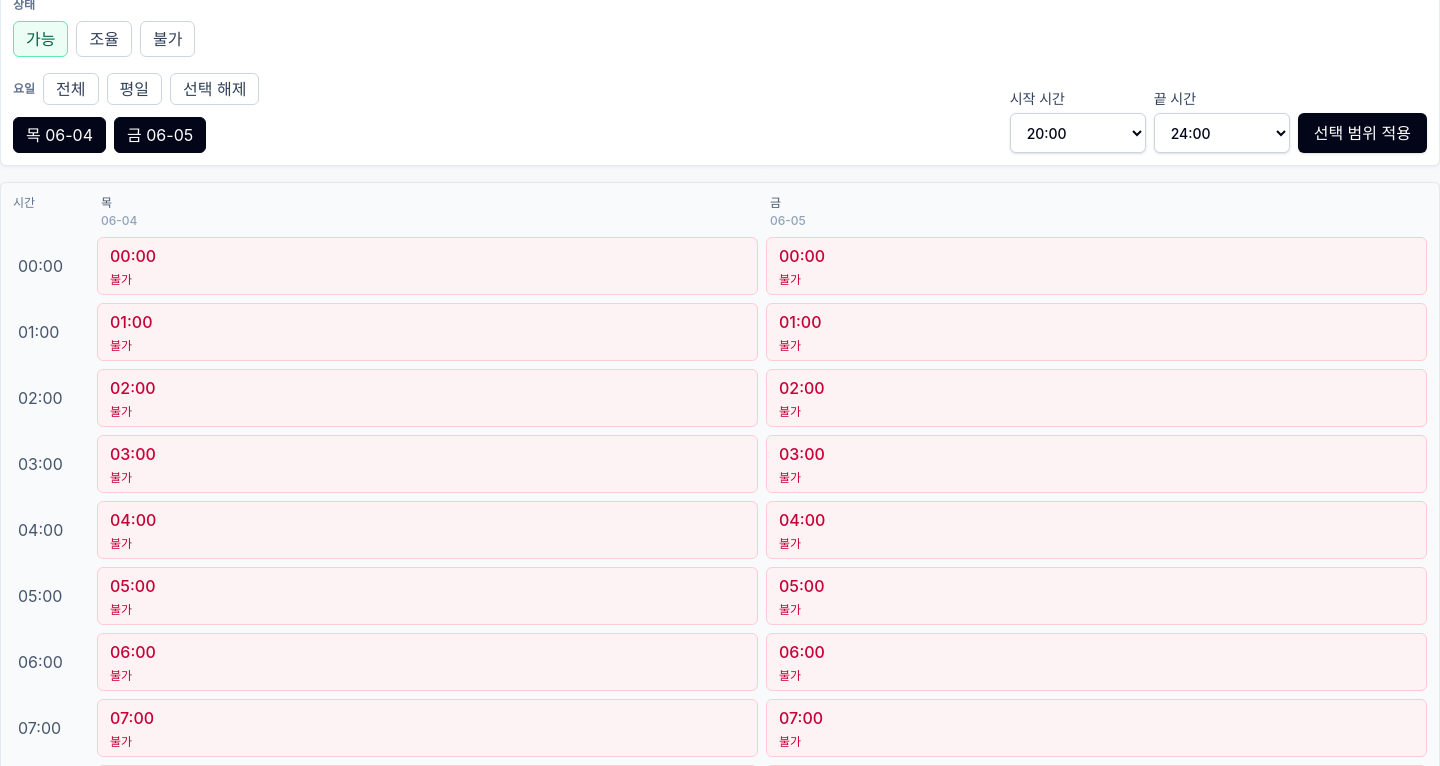
Test: AvailabilityGrid › applies a chosen time range only to selected days
Click the button "조율": (104, 39) 76,21 -> 132,57
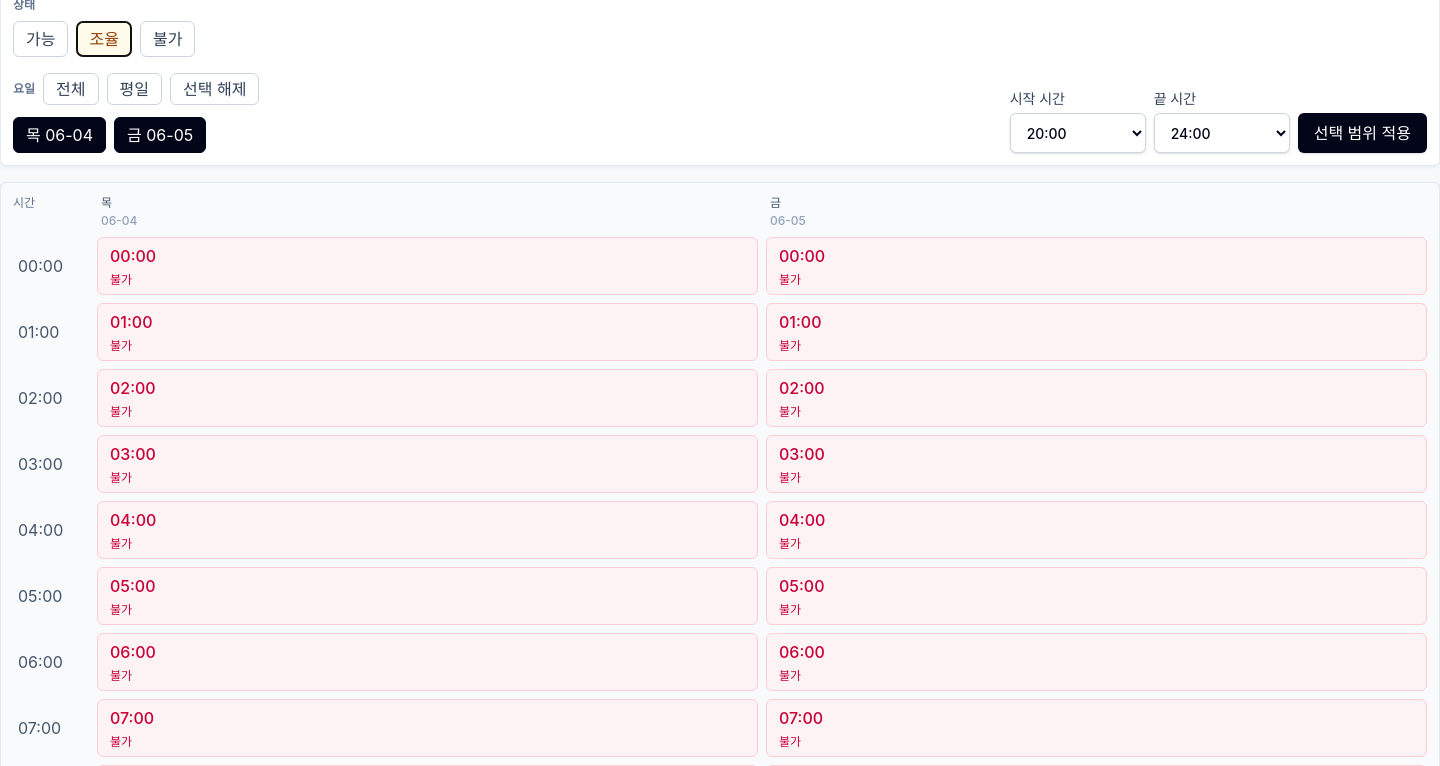
Select "20:00" in the dropdown labelled "시작 시간": (1078, 133) 1010,113 -> 1146,153
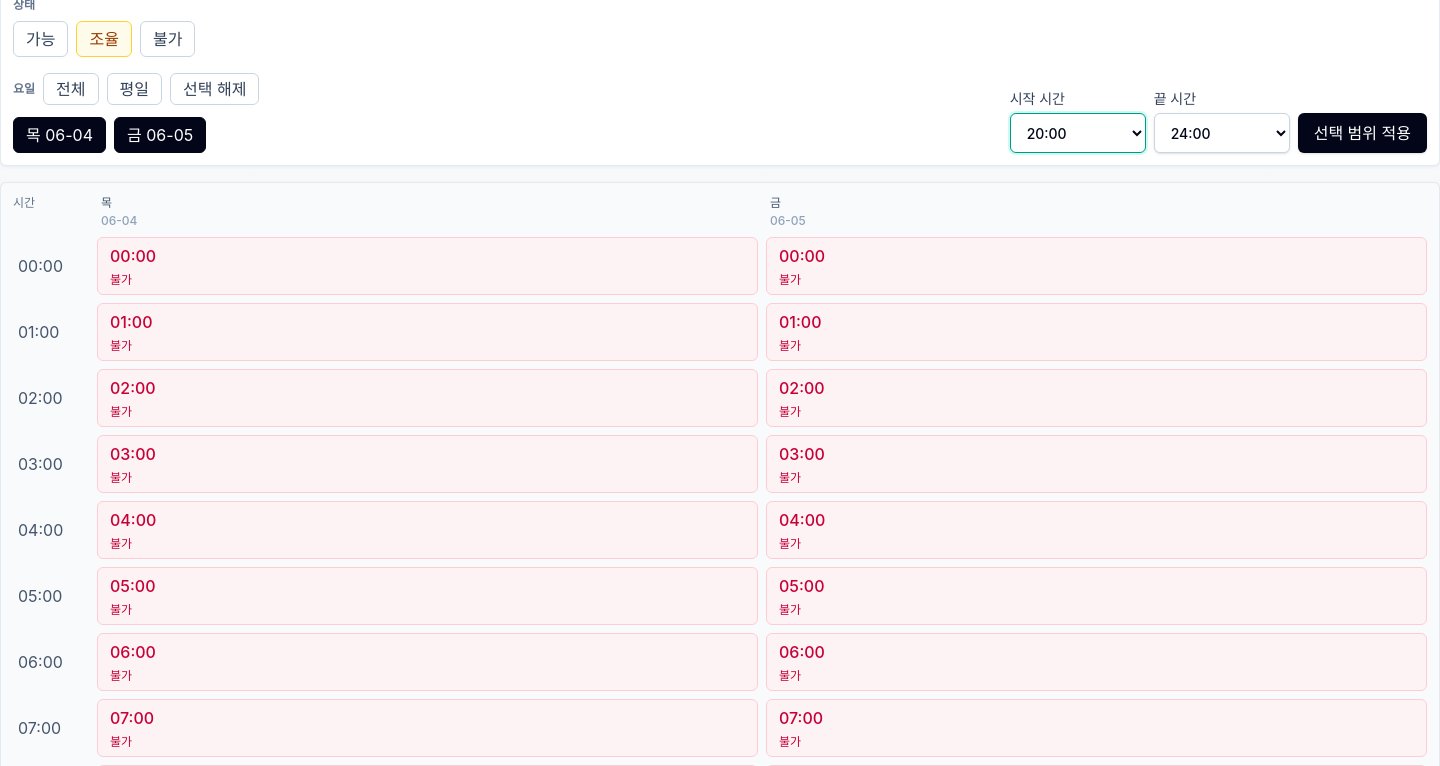
Select "22:00" in the dropdown labelled "끝 시간": (1222, 133) 1154,113 -> 1290,153
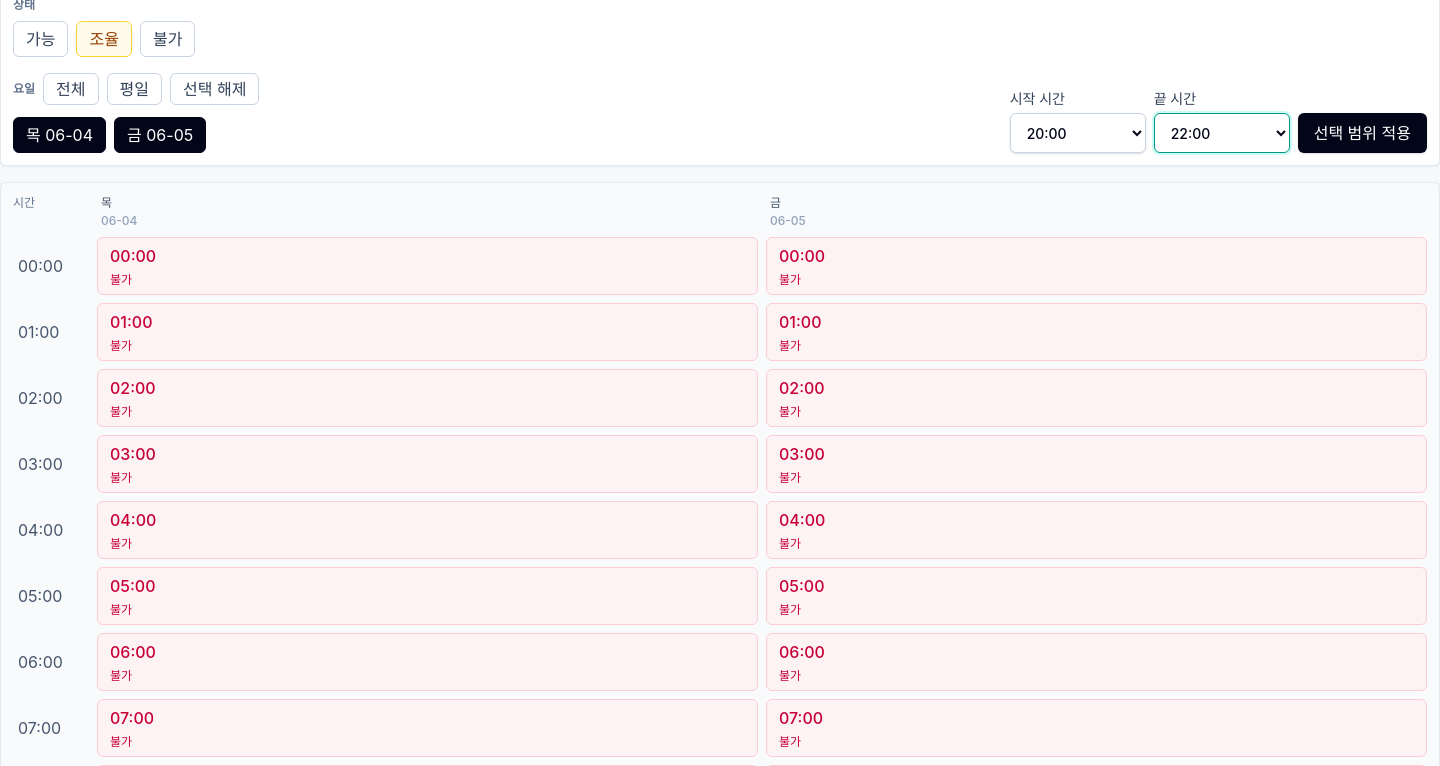
Click the button "목 06-04": (60, 135) 13,117 -> 106,153
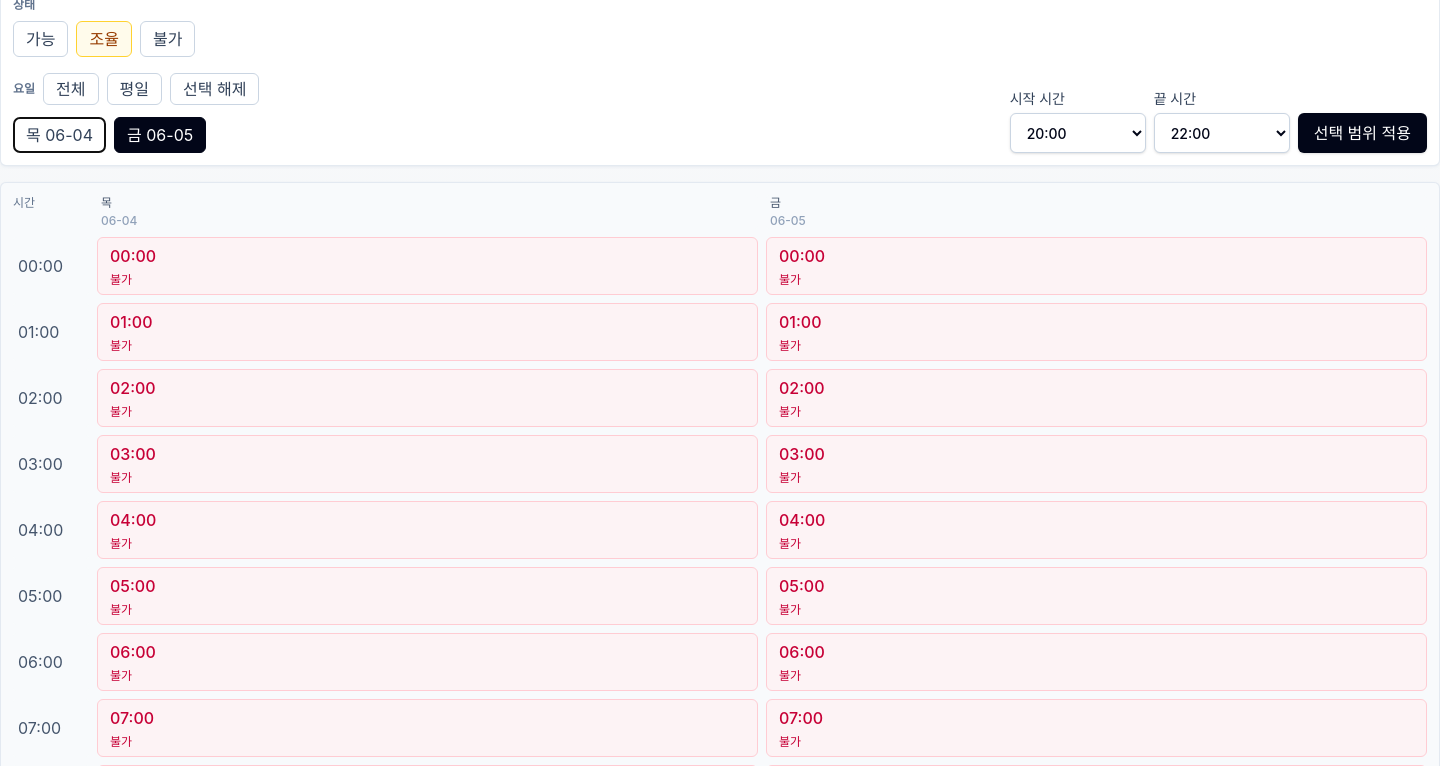
Click the button "선택 범위 적용": (1362, 133) 1298,113 -> 1427,153
(page scrolled)
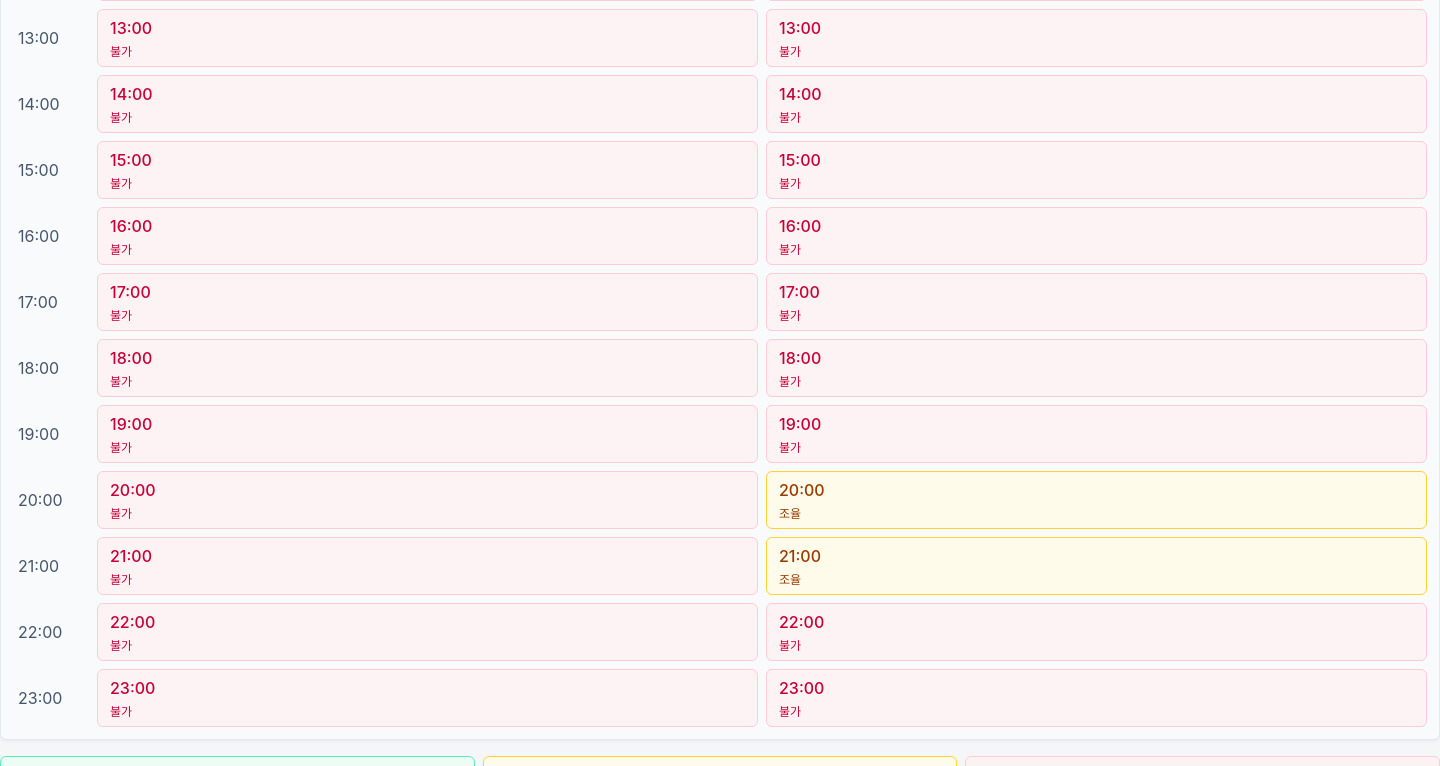
Expected: the button with aria-label "목 20:00 불가" is shown, 97,471 -> 758,529
Expected: the button with aria-label "금 21:00 조율" is shown, 766,537 -> 1427,595
